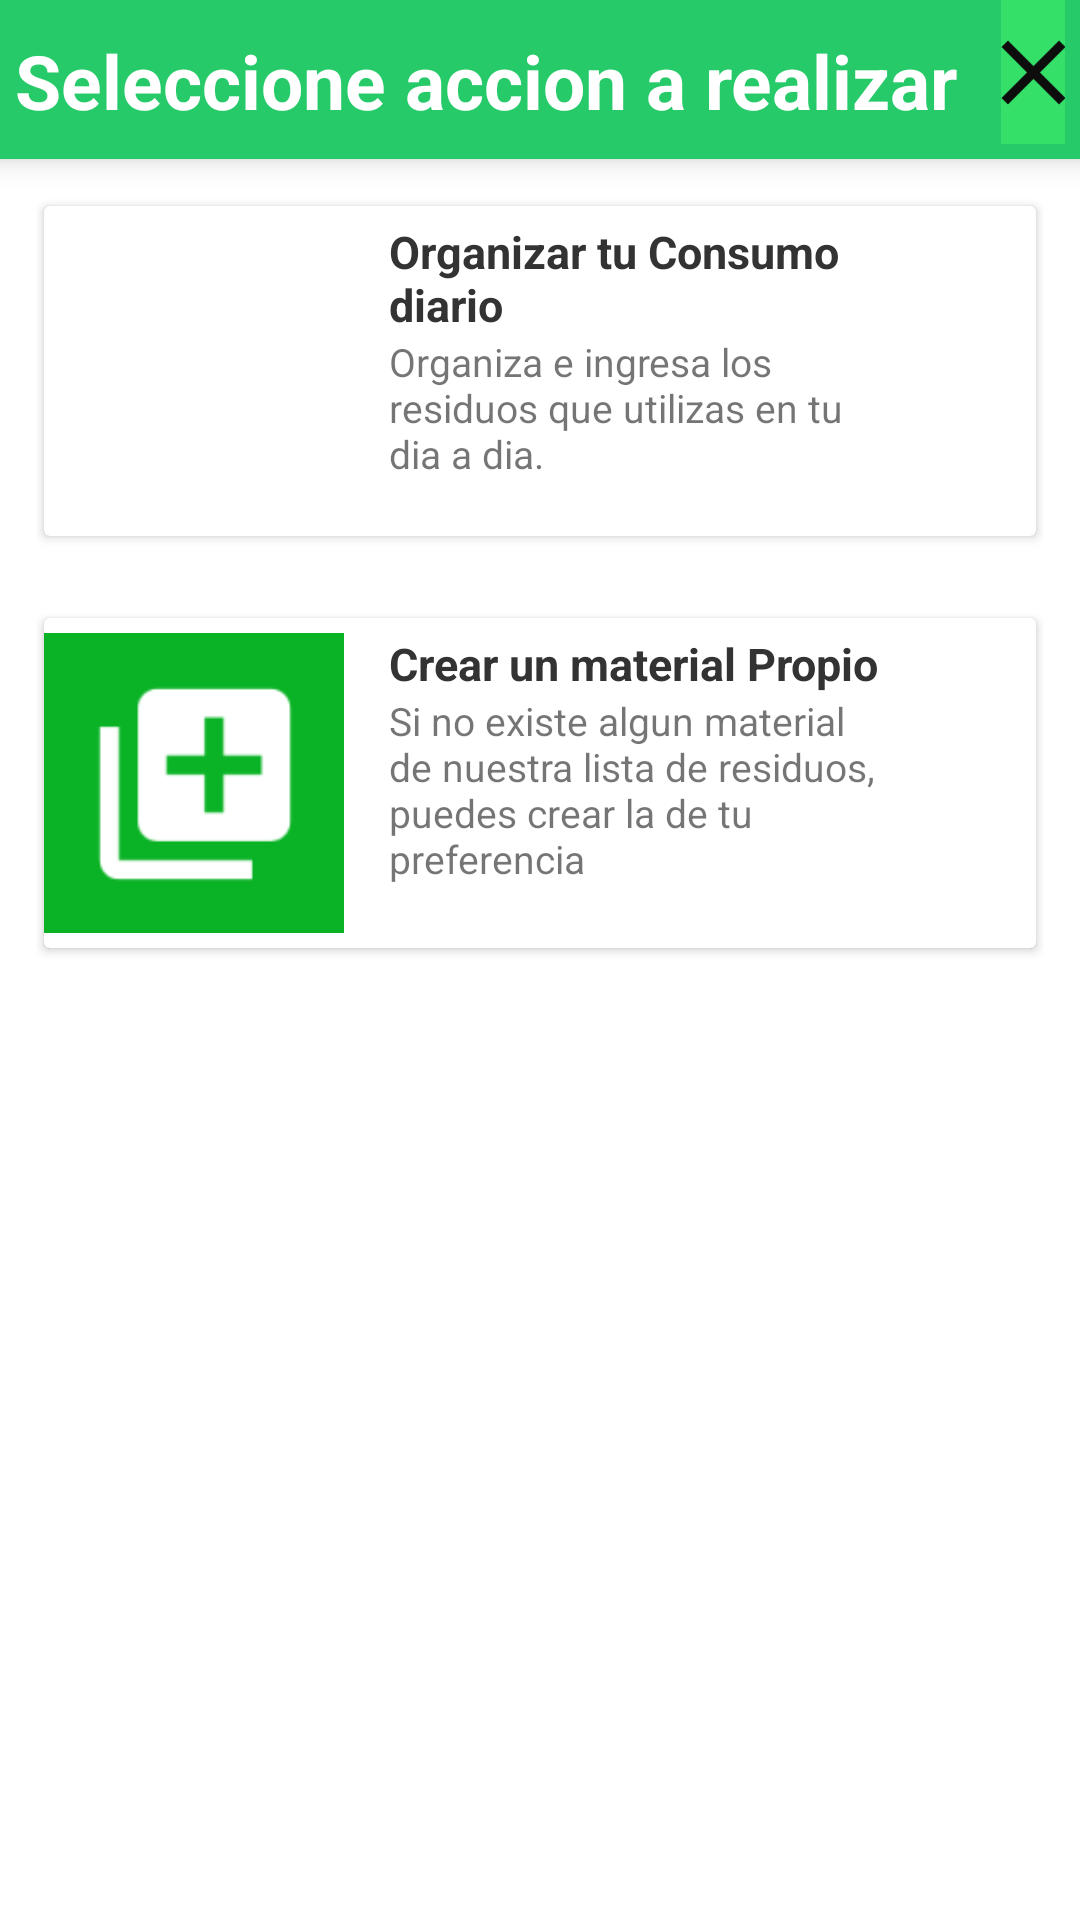

Where to tap for icons on this 1080px x 1920px app screen, as point (x, y):
anadir: point (194, 783)
cerrar: point (1033, 72)
